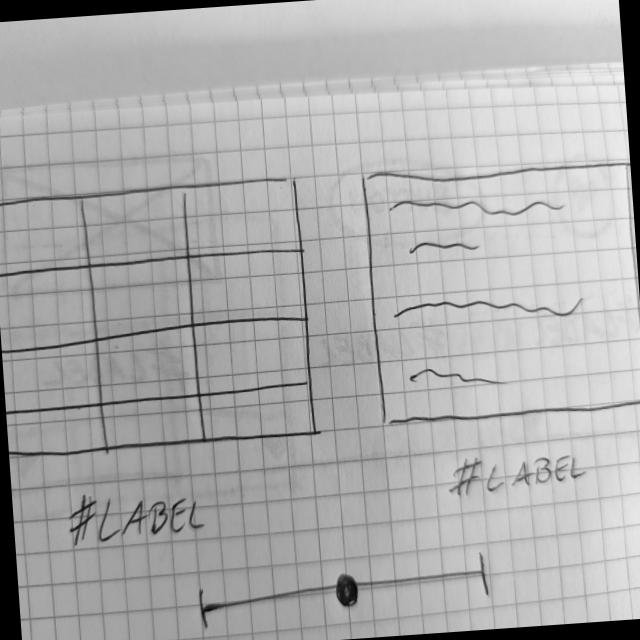table: (1, 175, 321, 463), (361, 150, 640, 434)
